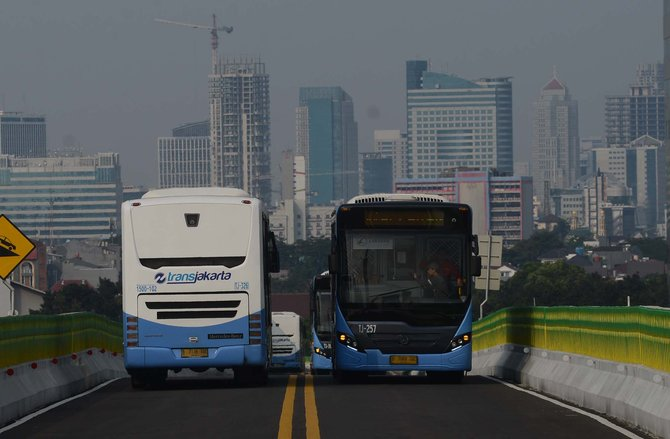plate: (388, 353, 417, 365), (183, 347, 209, 358)
